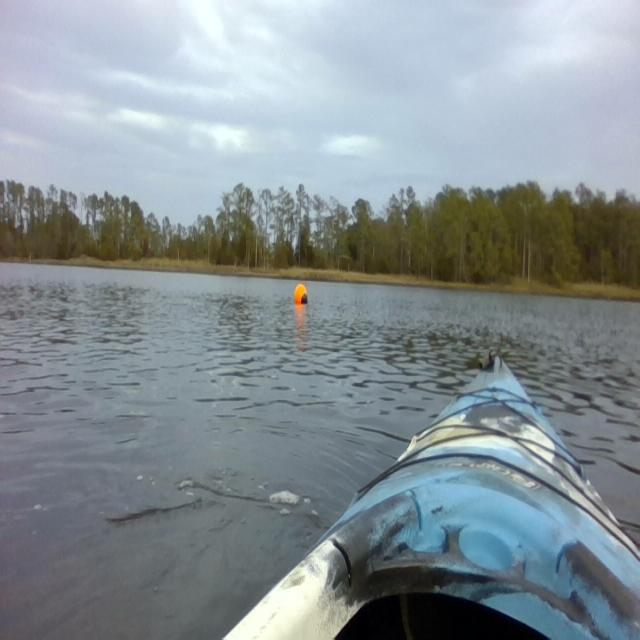Buoy: (293, 281, 309, 307)
